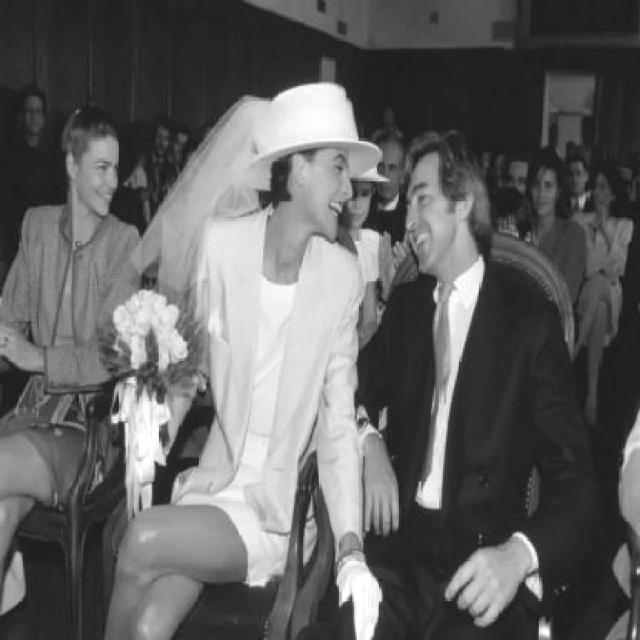face_nomask: (400, 160, 462, 275), (302, 149, 362, 243), (74, 137, 121, 217), (526, 169, 559, 217)
hand_glove: (332, 560, 383, 640)
hand_noglove: (445, 544, 523, 628), (362, 463, 403, 539), (0, 318, 43, 372), (377, 230, 392, 288), (391, 236, 409, 270), (594, 200, 608, 231)
head_nohelmet: (244, 79, 362, 166), (397, 130, 492, 176), (60, 109, 112, 143), (520, 151, 557, 177)
person: (103, 77, 385, 640), (334, 147, 619, 640), (0, 112, 160, 431)
